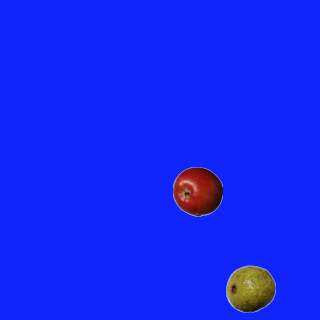Apple Braeburn: (172, 166, 222, 216)
Guava: (225, 263, 275, 313)
